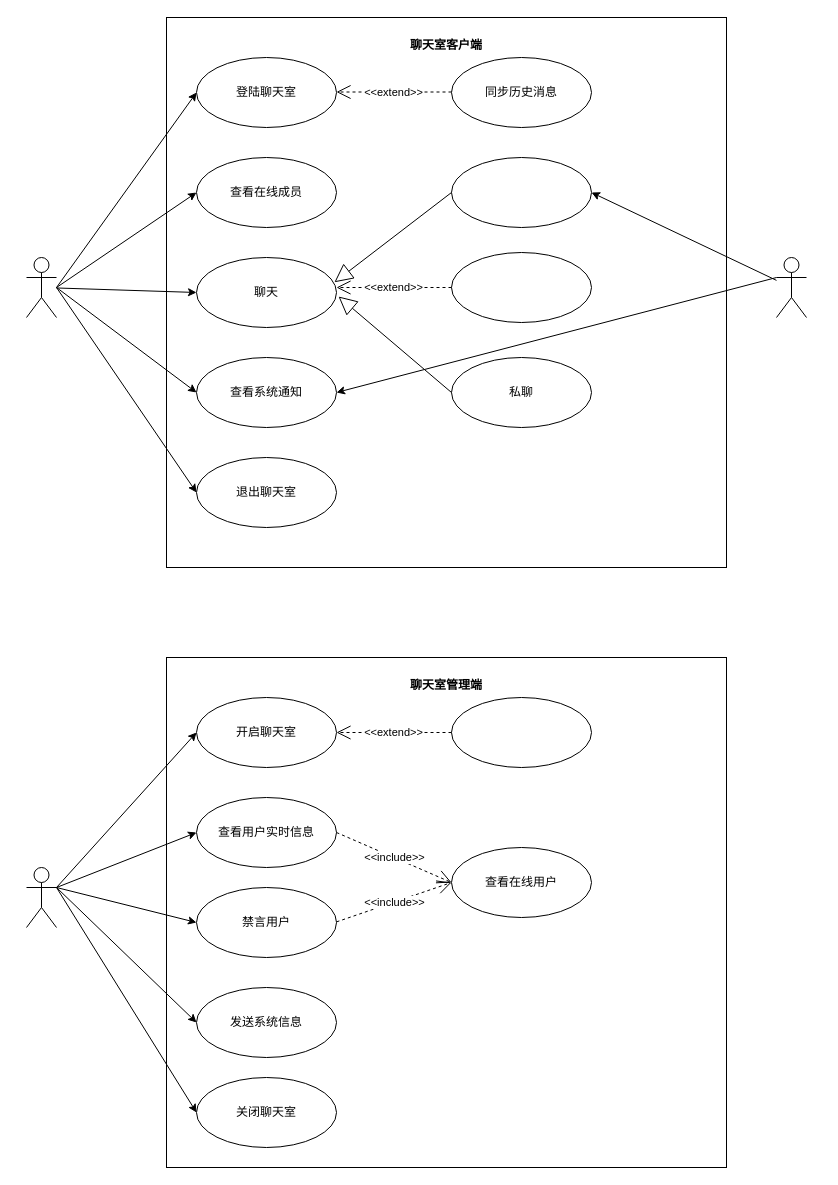
The diagram is 838 pixels wide and 1185 high, and some of its shapes have lost their labels. Each missing label, with the centre of its shape:
传输多格式信息: pixel 521 287
公共聊天: pixel 521 192
恢复数据库记录: pixel 521 732
未注册用户: pixel 791 287
注册用户: pixel 41 287
管理员: pixel 41 897
